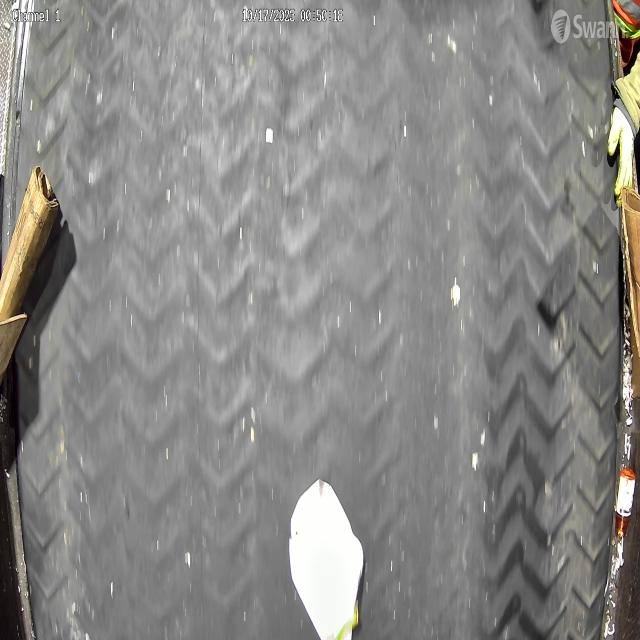milk_jug: (289, 477, 364, 640)
